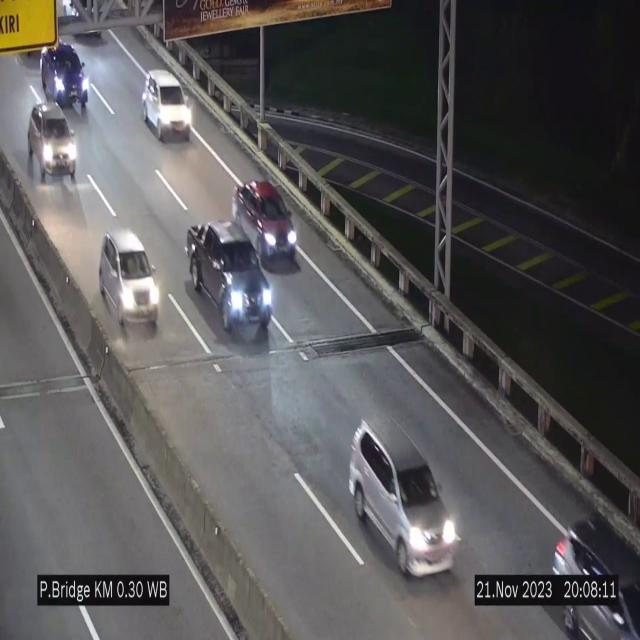Car: (348, 418, 458, 578), (551, 484, 640, 640), (184, 220, 276, 342), (231, 180, 299, 268), (99, 230, 159, 329), (25, 96, 75, 189), (34, 39, 92, 110), (142, 71, 192, 141)
